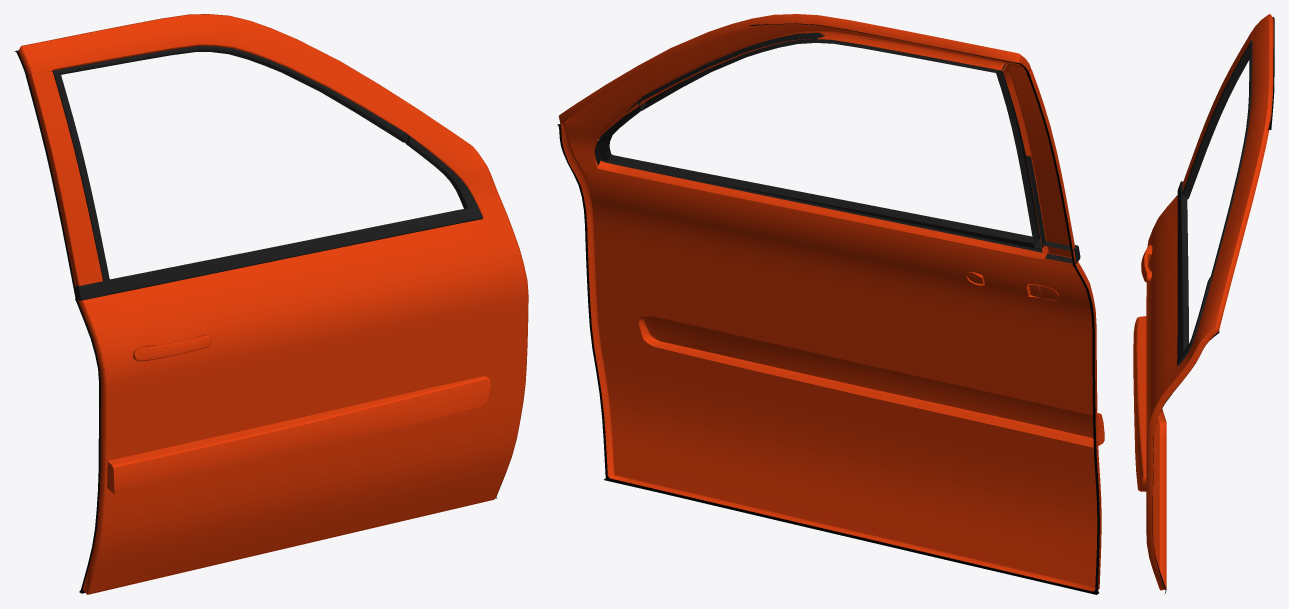
3 views of the same model, side by side, from view 1: azimuth 30°, elevation 25°; view 2: azimuth 150°, elevation 25°; view 3: azimuth 270°, elevation 25° (orthographic). The views are drawn at different scales.
Parts seen in each view (by area): view 1: U843_9A_281B_R_U843_9A_281B_R_1_DaS, U843_9A_281B_R_U843_9A_281B_R_1_DaS_E, U843_9A_281B_R_3_D_U843_9A_281B_R, U843_9A_281B_R_U843_9A_281B_R_4_D; view 2: U843_9A_281B_R_U843_9A_281B_R_1_DaS, U843_9A_281B_R_U843_9A_281B_R_1_DaS_E, U843_9A_281B_R_3_D_U843_9A_281B_R, U843_9A_281B_R_U843_9A_281B_R_4_D; view 3: U843_9A_281B_R_U843_9A_281B_R_1_DaS, U843_9A_281B_R_U843_9A_281B_R_1_DaS_E, U843_9A_281B_R_3_D_U843_9A_281B_R, U843_9A_281B_R_U843_9A_281B_R_4_D.
Boxes of the visible parts, <box> form: U843_9A_281B_R_U843_9A_281B_R_1_DaS: <box>22,14,527,593</box>; U843_9A_281B_R_U843_9A_281B_R_1_DaS_E: <box>18,14,528,594</box>; U843_9A_281B_R_3_D_U843_9A_281B_R: <box>52,46,483,300</box>; U843_9A_281B_R_U843_9A_281B_R_4_D: <box>15,50,497,593</box>; U843_9A_281B_R_U843_9A_281B_R_1_DaS: <box>565,24,1097,587</box>; U843_9A_281B_R_U843_9A_281B_R_1_DaS_E: <box>558,14,1104,591</box>; U843_9A_281B_R_3_D_U843_9A_281B_R: <box>594,32,1080,264</box>; U843_9A_281B_R_U843_9A_281B_R_4_D: <box>557,23,1099,594</box>; U843_9A_281B_R_U843_9A_281B_R_1_DaS: <box>1136,14,1269,569</box>; U843_9A_281B_R_U843_9A_281B_R_1_DaS_E: <box>1133,14,1273,590</box>; U843_9A_281B_R_3_D_U843_9A_281B_R: <box>1177,40,1252,365</box>; U843_9A_281B_R_U843_9A_281B_R_4_D: <box>1152,17,1274,594</box>.
Size of the model in its own units: 109 by 119 by 36.86.
